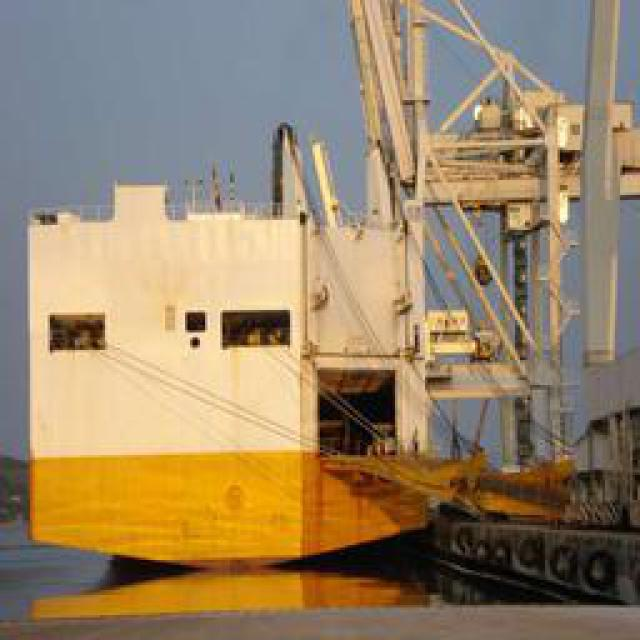Ship: (25, 74, 565, 579)
